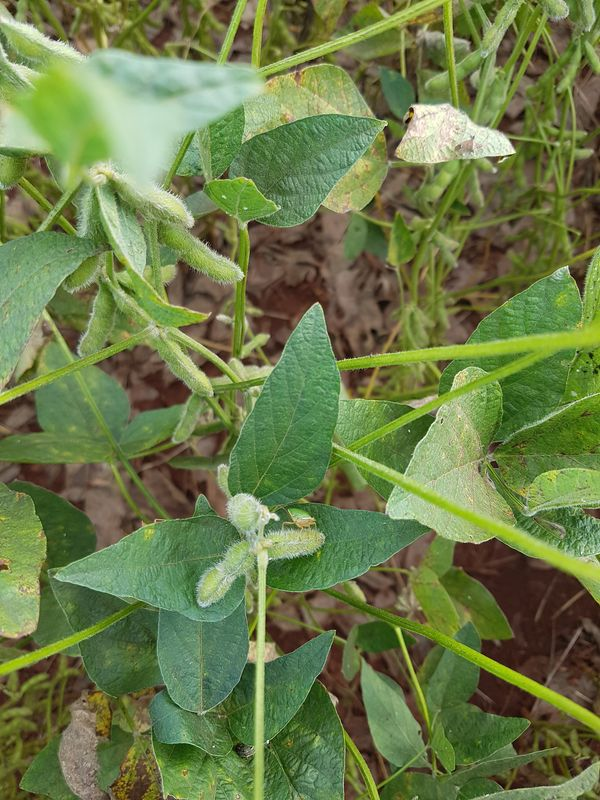Edessa_meditabunda: (277, 504, 322, 535)
Euschistus_heros_adulto: (450, 132, 482, 160)
